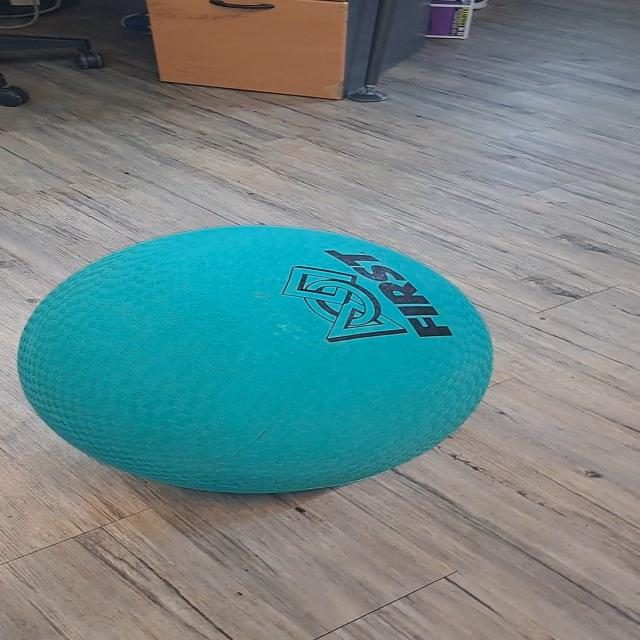ALGAE: (15, 223, 495, 495)
